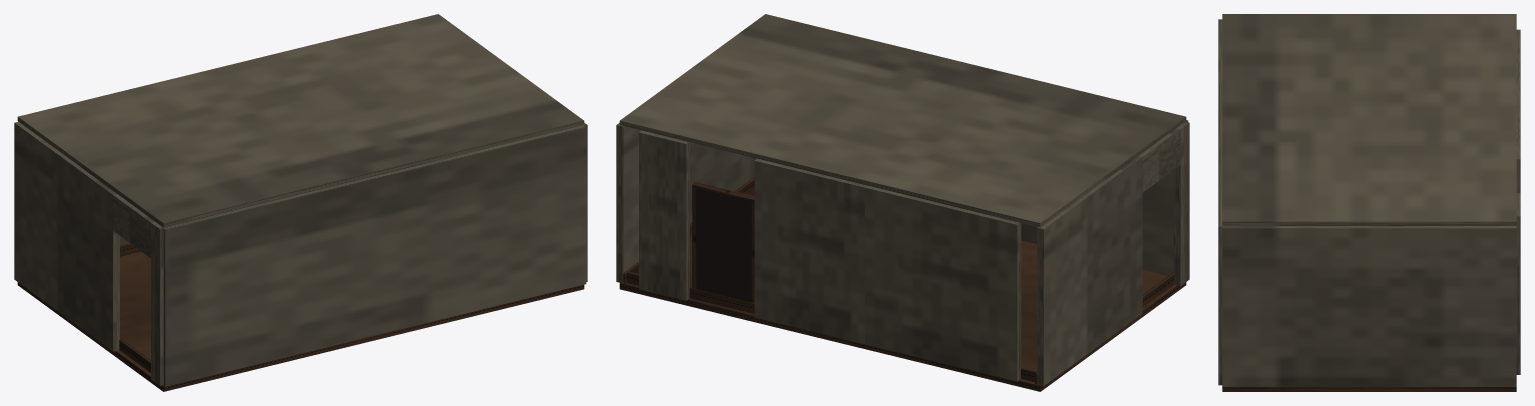
Rendered from house-interior-shell.glb.
The picture shows the model from 3 angles, left to right: view 1: azimuth 30°, elevation 25°; view 2: azimuth 150°, elevation 25°; view 3: azimuth 270°, elevation 25°; orthographic projection.
Visible parts, largest first — view 1: SM_lonely_house_interior_shell_GrimyPlaster, SM_FrontWall, SM_Floor, SM_lonely_house_interior_shell_DarkWood; view 2: SM_lonely_house_interior_shell_GrimyPlaster, SM_Floor, SM_HallRecess, SM_FrontWall, SM_lonely_house_interior_shell_DarkWood; view 3: SM_lonely_house_interior_shell_GrimyPlaster, SM_FrontWall, SM_Floor.
Boxes of the visible parts, bbox=[...] form: SM_lonely_house_interior_shell_GrimyPlaster: bbox=[14, 14, 587, 385]; SM_FrontWall: bbox=[163, 125, 586, 386]; SM_Floor: bbox=[17, 251, 584, 391]; SM_lonely_house_interior_shell_DarkWood: bbox=[119, 243, 150, 372]; SM_lonely_house_interior_shell_GrimyPlaster: bbox=[616, 14, 1189, 385]; SM_Floor: bbox=[619, 189, 1186, 391]; SM_HallRecess: bbox=[696, 187, 751, 302]; SM_FrontWall: bbox=[1021, 120, 1188, 275]; SM_lonely_house_interior_shell_DarkWood: bbox=[623, 177, 1174, 384]; SM_lonely_house_interior_shell_GrimyPlaster: bbox=[1222, 14, 1520, 386]; SM_FrontWall: bbox=[1218, 19, 1226, 385]; SM_Floor: bbox=[1222, 387, 1516, 391].
Bounding box in the file's own units: 8.13 × 3.06 × 4.93.
Materials: 4 (3 with a texture image).
